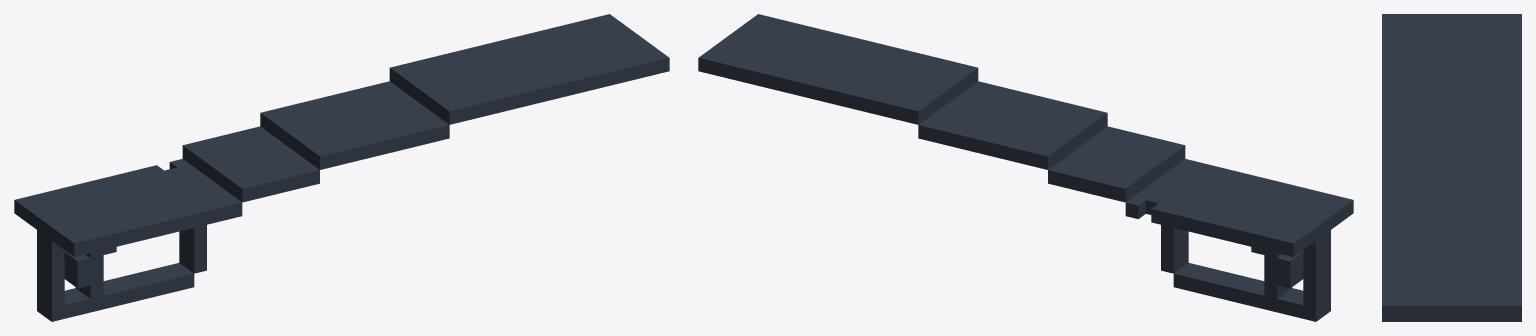
File: lower_sporter.glb
3 renders of one model, left to right at view 1: azimuth 30°, elevation 25°; view 2: azimuth 150°, elevation 25°; view 3: azimuth 270°, elevation 25°, orthographic. The views are drawn at different scales.
Parts seen in each view (by area): view 1: lower_sporter:lower; view 2: lower_sporter:lower; view 3: lower_sporter:lower.
Boxes of the visible parts, x1=… form: lower_sporter:lower: x1=14, y1=14, x2=669, y2=321; lower_sporter:lower: x1=698, y1=14, x2=1353, y2=321; lower_sporter:lower: x1=1382, y1=14, x2=1521, y2=321.
Size of the model in its own units: 0.184 by 0.04 by 0.032.
